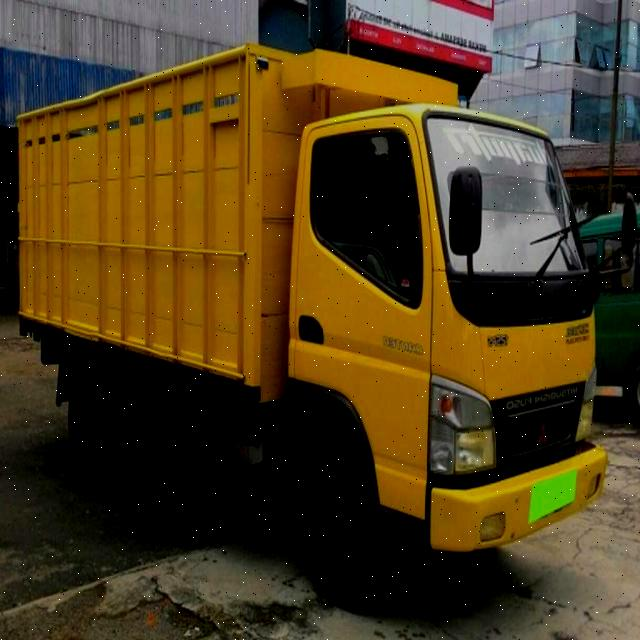truck: (12, 40, 640, 598)
